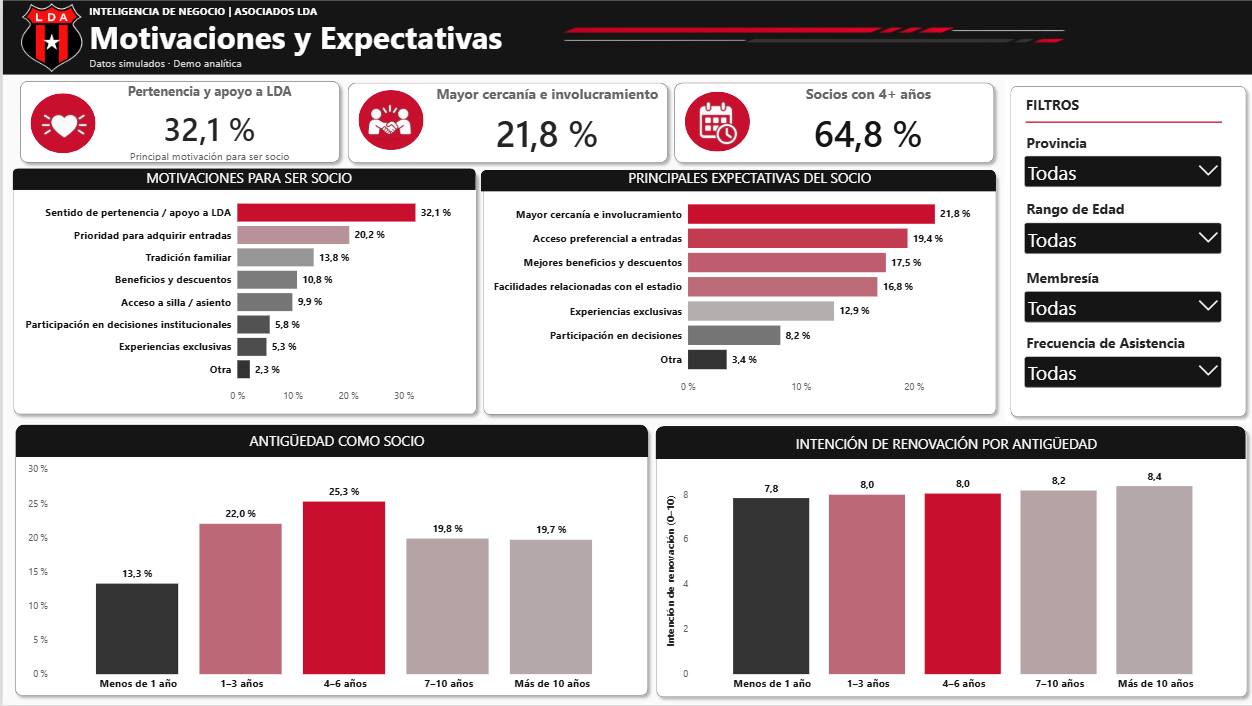

The dashboard page shown, as its layout file describes it:
{"tool":"powerbi","page":{"name":"Motivaciones y expectativas","canvas":[1920,1080],"ordinal":3},"visuals":[{"type":"shape","title":"hdhhdhth","box":[1534.1,121.7,379.4,524.9],"z":0,"group":"g1"},{"type":"group","id":"g1","title":"Grupo 1","box":[1534.1,121.7,379.4,524.9],"z":0,"group":"g9"},{"type":"shape","title":"hdhhdhth","box":[7.2,252.9,727.7,391.3],"z":0,"group":"g2"},{"type":"group","id":"g2","title":"Grupo 1","box":[7.2,252.9,727.7,391.3],"z":0,"group":"g8"},{"type":"group","id":"g3","title":"Grupo 1","box":[726.8,255.3,803.8,389.2],"z":0,"group":"g7"},{"type":"shape","title":"hdhhdhth","box":[726.8,255.3,803.8,389.2],"z":0,"group":"g3"},{"type":"shape","title":"hdhhdhth","box":[9.5,644.2,987.8,429.5],"z":0,"group":"g5"},{"type":"group","id":"g4","title":"Grupo 2","box":[9.5,644.2,987.8,429.5],"z":0},{"type":"group","id":"g5","title":"Grupo 1","box":[9.5,644.2,987.8,429.5],"z":0,"group":"g4"},{"type":"group","id":"g6","title":"Grupo 1","box":[991.7,646.4,923.3,429.5],"z":0,"group":"g10"},{"type":"shape","title":"hdhhdhth","box":[991.7,646.4,923.3,429.5],"z":0,"group":"g6"},{"type":"group","id":"g7","title":"Grupo 2","box":[726.8,255.3,803.8,389.2],"z":1000},{"type":"shape","box":[15.6,257.6,710,33.5],"z":1000,"group":"g2"},{"type":"textbox","box":[200.4,257.6,355,33.5],"z":1000,"group":"g8"},{"type":"shape","box":[732,259.4,789.3,33.6],"z":1000,"group":"g3"},{"type":"shape","box":[19.4,649.2,968.8,50],"z":1000,"group":"g5"},{"type":"shape","box":[1000.4,650.7,904.5,50.6],"z":1000,"group":"g6"},{"type":"textbox","box":[349.4,658,324.5,31],"z":1000,"group":"g4"},{"type":"textbox","box":[1120.7,662.9,646.8,35.6],"z":1000,"group":"g10"},{"type":"group","id":"g8","title":"Grupo 2","box":[7.2,252.9,727.7,391.3],"z":2000},{"type":"shape","box":[1021.2,116.9,508.2,140.8],"z":3000},{"type":"textbox","box":[899.1,257.5,489.1,33.4],"z":3000,"group":"g7"},{"type":"shape","box":[520.1,116.9,508.2,140.8],"z":4000},{"type":"shape","box":[16.7,114.5,508.2,143.2],"z":5000},{"type":"shape","box":[0,0,1920.7,114],"z":6000},{"type":"textbox","box":[133.6,4.8,560.7,33.4],"z":7000},{"type":"textbox","box":[133.6,21.5,734.9,64.4],"z":8000},{"type":"textbox","box":[133.6,85.9,248.1,21.5],"z":9000},{"type":"cardVisual","title":"Pertenencia y apoyo a LDA","fields":{"Data":["EncuestaSociosTable.%_Pertenencia_Apoyo"]},"box":[140.7,125,348.6,122.1],"z":10000},{"type":"cardVisual","title":"Mayor cercanía e involucramiento","fields":{"Data":["EncuestaSociosTable.%_Mayor_Cercania"]},"box":[660.9,126.5,348.3,121.7],"z":11000},{"type":"shape","box":[42,143.5,100,92.3],"z":12000},{"type":"shape","box":[544.6,137.8,100,92.3],"z":13000},{"type":"shape","box":[1045,139.7,100,92.3],"z":14000},{"type":"group","id":"g9","title":"Grupo 2","box":[1534.1,121.7,379.4,524.9],"z":15000},{"type":"image","box":[7.2,0,133.6,121.7],"z":16000},{"type":"group","id":"g10","title":"Grupo 2","box":[991.7,646.4,923.3,429.5],"z":17000},{"type":"slicer","fields":{"Values":["EncuestaSociosTable.Provincia"]},"box":[1560.4,203.6,312.6,116.9],"z":18000},{"type":"slicer","fields":{"Values":["EncuestaSociosTable.Rango_Edad"]},"box":[1560.4,303.8,312.6,116.9],"z":19000},{"type":"slicer","fields":{"Values":["EncuestaSociosTable.Membresia"]},"box":[1560.4,408.8,312.6,116.9],"z":20000},{"type":"slicer","fields":{"Values":["EncuestaSociosTable.Frecuencia_Estadio"]},"box":[1560.4,509,312.6,116.9],"z":21000},{"type":"image","box":[844.6,0,796.9,114.5],"z":22000},{"type":"cardVisual","title":"Socios con 4+ años","fields":{"Data":["EncuestaSociosTable.%_Socios_4_Mas_Anios"]},"box":[1142.9,126.5,367.4,121.7],"z":23000},{"type":"textbox","box":[1567.5,145.5,272,42.9],"z":24000},{"type":"shape","box":[1567.5,174.2,300.6,23.9],"z":25000},{"type":"columnChart","fields":{"Category":["EncuestaSociosTable.Antiguedad"],"Y":["EncuestaSociosTable.%_Respuestas_Antiguedad"]},"box":[21.5,708.6,963.9,372.2],"z":26000},{"type":"clusteredBarChart","fields":{"Category":["EncuestaSociosTable.Motivo_Socio"],"Y":["EncuestaSociosTable.%_Respuestas_Motivo_Socio"]},"box":[16.5,290.9,701.7,346.6],"z":27000},{"type":"clusteredBarChart","fields":{"Category":["EncuestaSociosTable.Expectativa_Corta"],"Y":["EncuestaSociosTable.%_Respuestas_Expectativa_Corta"]},"box":[734.9,291.1,780.2,334],"z":28000},{"type":"columnChart","fields":{"Category":["EncuestaSociosTable.Antiguedad"],"Y":["EncuestaSociosTable.Intencion_Renovacion_Promedio"]},"box":[1000.3,708.7,901.3,372.1],"z":29000},{"type":"image","box":[54.9,126.5,76.3,133.6],"z":30000},{"type":"image","box":[555.9,116.9,76,133],"z":31000},{"type":"image","box":[1057,121.7,76,133],"z":32000}]}

Visuals, with their boxes in screenshot pixels (x1, y1, x2, y2), scaled from the page's 1920x1080 canvas onto the 1252x706 screenshot:
"hdhhdhth" shape: <bbox>1000, 80, 1248, 423</bbox>
"Grupo 1" group: <bbox>1000, 80, 1248, 423</bbox>
"hdhhdhth" shape: <bbox>5, 165, 479, 421</bbox>
"Grupo 1" group: <bbox>5, 165, 479, 421</bbox>
"Grupo 1" group: <bbox>474, 167, 998, 421</bbox>
"hdhhdhth" shape: <bbox>474, 167, 998, 421</bbox>
"hdhhdhth" shape: <bbox>6, 421, 650, 702</bbox>
"Grupo 2" group: <bbox>6, 421, 650, 702</bbox>
"Grupo 1" group: <bbox>6, 421, 650, 702</bbox>
"Grupo 1" group: <bbox>647, 423, 1249, 703</bbox>
"hdhhdhth" shape: <bbox>647, 423, 1249, 703</bbox>
"Grupo 2" group: <bbox>474, 167, 998, 421</bbox>
shape: <bbox>10, 168, 473, 190</bbox>
textbox: <bbox>131, 168, 362, 190</bbox>
shape: <bbox>477, 170, 992, 192</bbox>
shape: <bbox>13, 424, 644, 457</bbox>
shape: <bbox>652, 425, 1242, 458</bbox>
textbox: <bbox>228, 430, 439, 450</bbox>
textbox: <bbox>731, 433, 1153, 457</bbox>
"Grupo 2" group: <bbox>5, 165, 479, 421</bbox>
shape: <bbox>666, 76, 997, 168</bbox>
textbox: <bbox>586, 168, 905, 190</bbox>
shape: <bbox>339, 76, 671, 168</bbox>
shape: <bbox>11, 75, 342, 168</bbox>
shape: <bbox>0, 0, 1251, 75</bbox>
textbox: <bbox>87, 3, 453, 25</bbox>
textbox: <bbox>87, 14, 566, 56</bbox>
textbox: <bbox>87, 56, 249, 70</bbox>
"Pertenencia y apoyo a LDA" cardVisual: <bbox>92, 82, 319, 162</bbox>
"Mayor cercanía e involucramiento" cardVisual: <bbox>431, 83, 658, 162</bbox>
shape: <bbox>27, 94, 93, 154</bbox>
shape: <bbox>355, 90, 420, 150</bbox>
shape: <bbox>681, 91, 747, 152</bbox>
"Grupo 2" group: <bbox>1000, 80, 1248, 423</bbox>
image: <bbox>5, 0, 92, 80</bbox>
"Grupo 2" group: <bbox>647, 423, 1249, 703</bbox>
slicer - EncuestaSociosTable.Provincia: <bbox>1018, 133, 1221, 210</bbox>
slicer - EncuestaSociosTable.Rango_Edad: <bbox>1018, 199, 1221, 275</bbox>
slicer - EncuestaSociosTable.Membresia: <bbox>1018, 267, 1221, 344</bbox>
slicer - EncuestaSociosTable.Frecuencia_Estadio: <bbox>1018, 333, 1221, 409</bbox>
image: <bbox>551, 0, 1070, 75</bbox>
"Socios con 4+ años" cardVisual: <bbox>745, 83, 985, 162</bbox>
textbox: <bbox>1022, 95, 1200, 123</bbox>
shape: <bbox>1022, 114, 1218, 129</bbox>
columnChart - EncuestaSociosTable.Antiguedad x EncuestaSociosTable.%_Respuestas_Antiguedad: <bbox>14, 463, 643, 705</bbox>
clusteredBarChart - EncuestaSociosTable.Motivo_Socio x EncuestaSociosTable.%_Respuestas_Motivo_Socio: <bbox>11, 190, 468, 417</bbox>
clusteredBarChart - EncuestaSociosTable.Expectativa_Corta x EncuestaSociosTable.%_Respuestas_Expectativa_Corta: <bbox>479, 190, 988, 409</bbox>
columnChart - EncuestaSociosTable.Antiguedad x EncuestaSociosTable.Intencion_Renovacion_Promedio: <bbox>652, 463, 1240, 705</bbox>
image: <bbox>36, 83, 86, 170</bbox>
image: <bbox>362, 76, 412, 163</bbox>
image: <bbox>689, 80, 739, 166</bbox>
